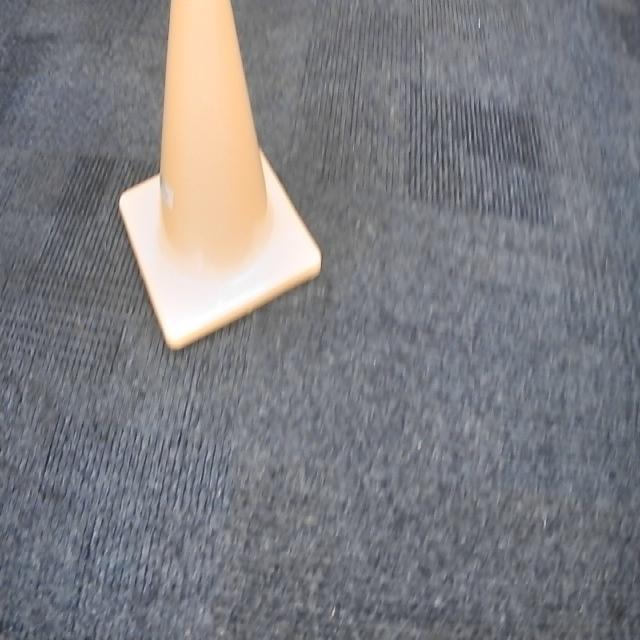cone: (113, 0, 326, 359)
